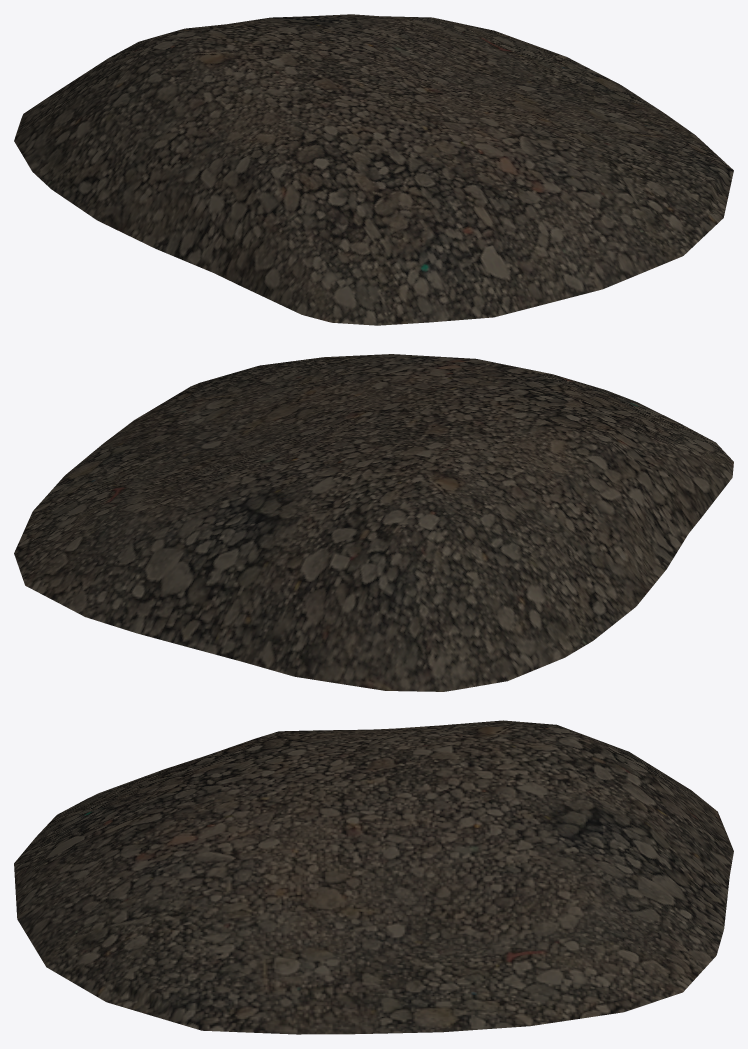
The model's file is gravel_pile_hr_2.obj.
The picture shows the model from 3 angles, top to bottom: view 1: azimuth 30°, elevation 25°; view 2: azimuth 150°, elevation 25°; view 3: azimuth 270°, elevation 25°; orthographic projection. The views are drawn at different scales.
Parts seen in each view (by area): view 1: gravel_pile_hr_2; view 2: gravel_pile_hr_2; view 3: gravel_pile_hr_2.
Boxes of the visible parts, box(x1,y1,x2,y2) form: gravel_pile_hr_2: box(14, 14, 733, 325); gravel_pile_hr_2: box(14, 354, 733, 691); gravel_pile_hr_2: box(14, 720, 733, 1034).
Size of the model in its own units: 1.49 by 0.2791 by 1.66.
